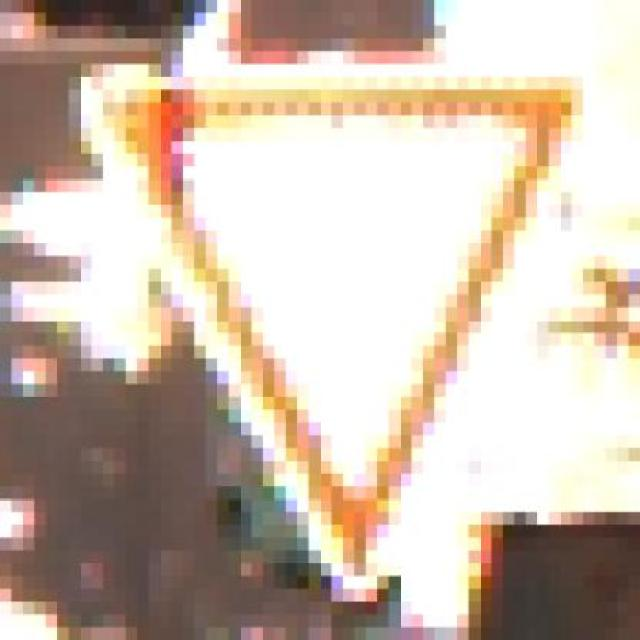Give Way: (46, 64, 594, 576)
